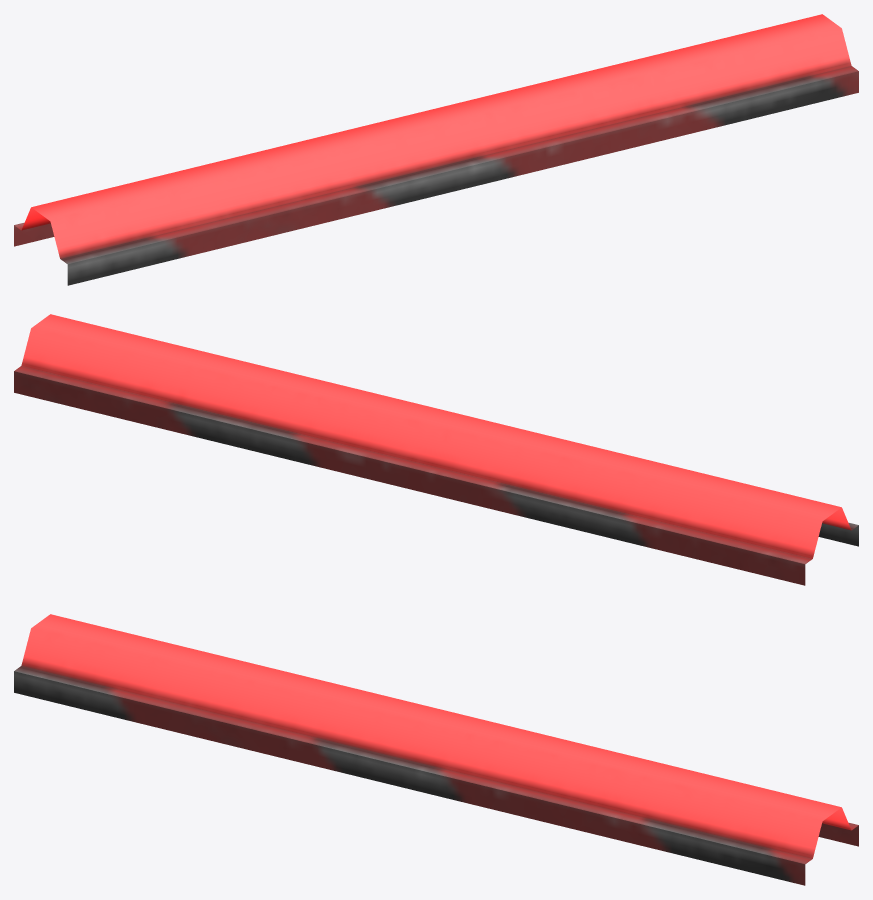
File: Way_SStr.fbx
3 renders of one model, top to bottom at view 1: azimuth 30°, elevation 25°; view 2: azimuth 150°, elevation 25°; view 3: azimuth 330°, elevation 25°, orthographic.
Visible parts, largest first — view 1: Way_SStr; view 2: Way_SStr; view 3: Way_SStr.
Part boxes in pixels (box(x1,y1,x2,y2)): Way_SStr: box(14, 14, 858, 285); Way_SStr: box(14, 314, 858, 585); Way_SStr: box(14, 614, 858, 885).
Bounding box in the file's own units: 2 × 0.1253 × 0.2342.
